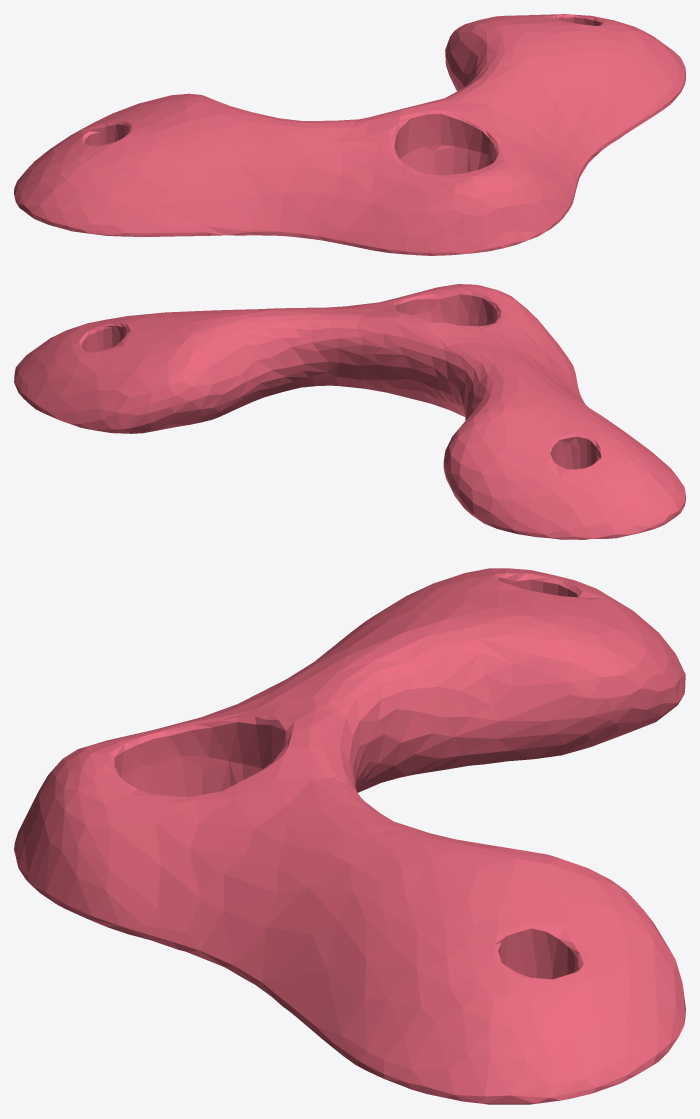
The model's file is red-crimp.glb.
The picture shows the model from 3 angles, top to bottom: view 1: azimuth 30°, elevation 25°; view 2: azimuth 150°, elevation 25°; view 3: azimuth 270°, elevation 25°; orthographic projection. The views are drawn at different scales.
Parts seen in each view (by area): view 1: red-crimp_dec.ply; view 2: red-crimp_dec.ply; view 3: red-crimp_dec.ply.
Boxes of the visible parts, box(x1,y1,x2,y2) form: red-crimp_dec.ply: box(14, 14, 685, 255); red-crimp_dec.ply: box(14, 284, 685, 539); red-crimp_dec.ply: box(14, 568, 685, 1104).
Size of the model in its own units: 0.3997 by 0.0438 by 0.2242.
